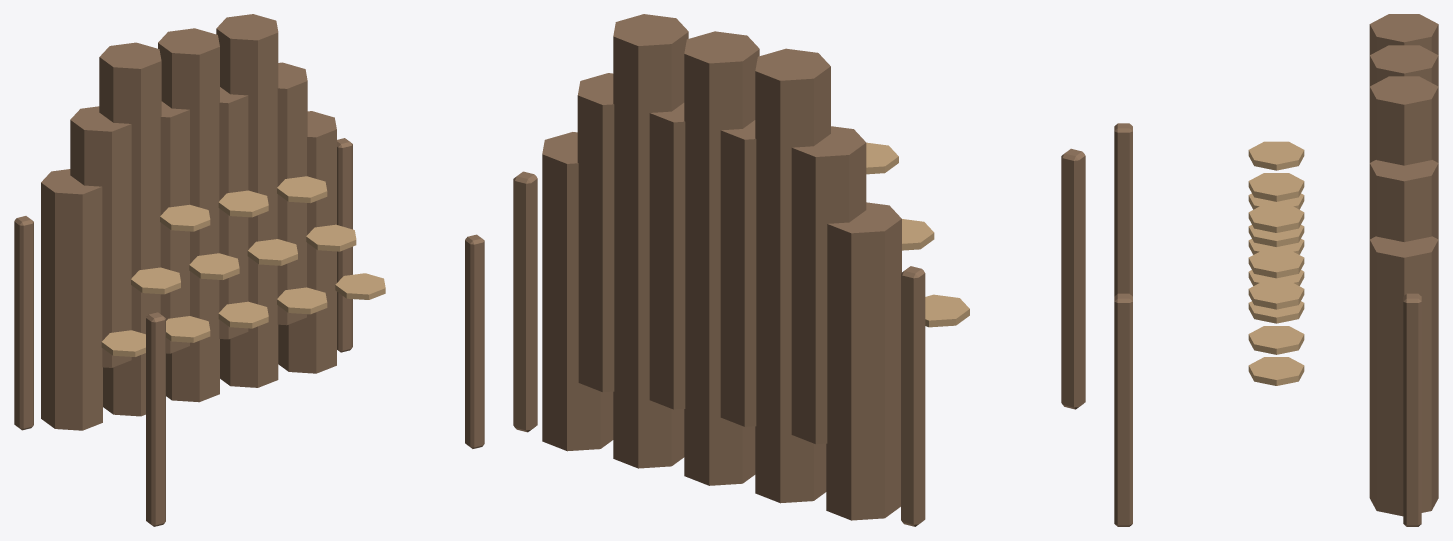
Rendered from town_log_pile.glb.
3 views of the same model, side by side, from view 1: azimuth 30°, elevation 25°; view 2: azimuth 150°, elevation 25°; view 3: azimuth 270°, elevation 25° (orthographic). The views are drawn at different scales.
Parts seen in each view (by area): view 1: world; view 2: world; view 3: world.
Boxes of the visible parts, box(x1,y1,x2,y2) form: world: box(14, 14, 484, 526); world: box(513, 14, 1085, 526); world: box(1114, 14, 1438, 526).
Bounding box in the file's own units: 2 × 2 × 1.54.
